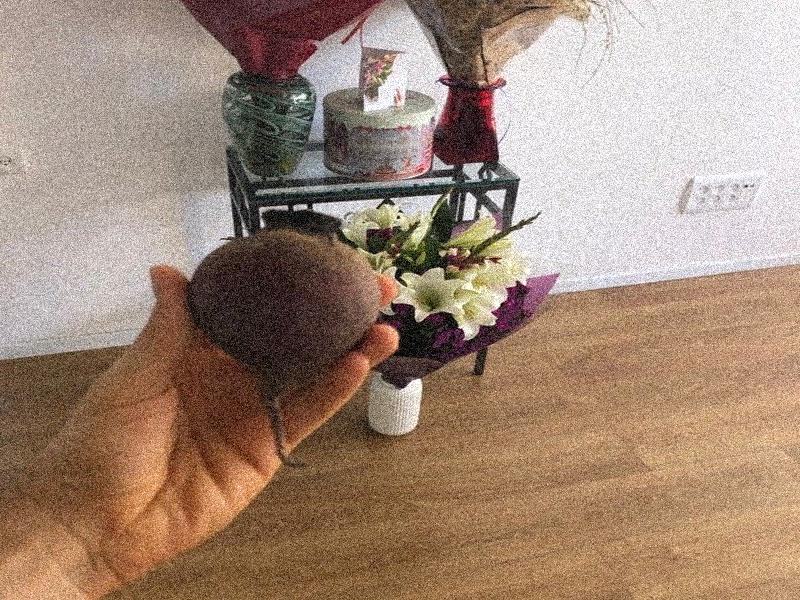Beet: (189, 209, 381, 467)
